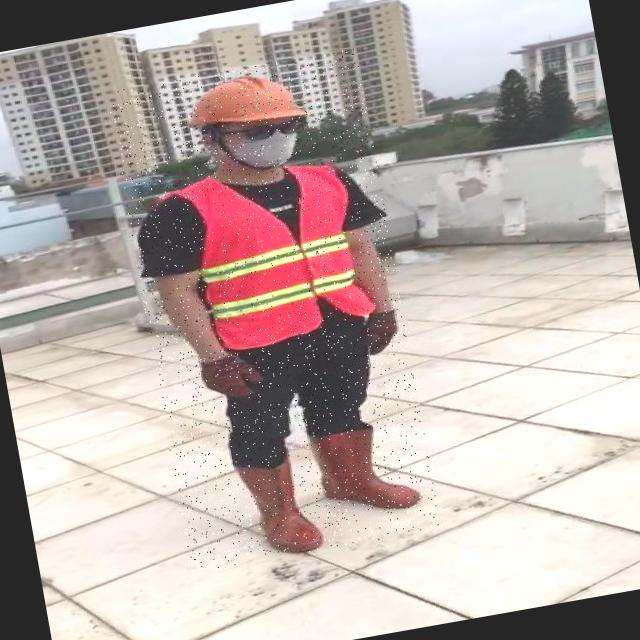boots: (306, 420, 419, 521), (234, 454, 322, 560)
helmet: (187, 65, 310, 140)
vest: (176, 154, 377, 352)
